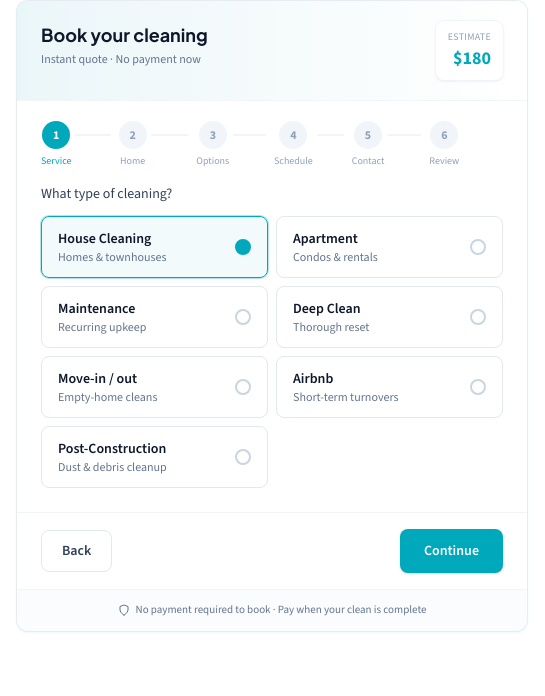
Test: BookingWidget demo booking flow › blocks continue on contact step when required fields are empty
Click the button with test id "booking-continue": (452, 551) [400,529,503,573]
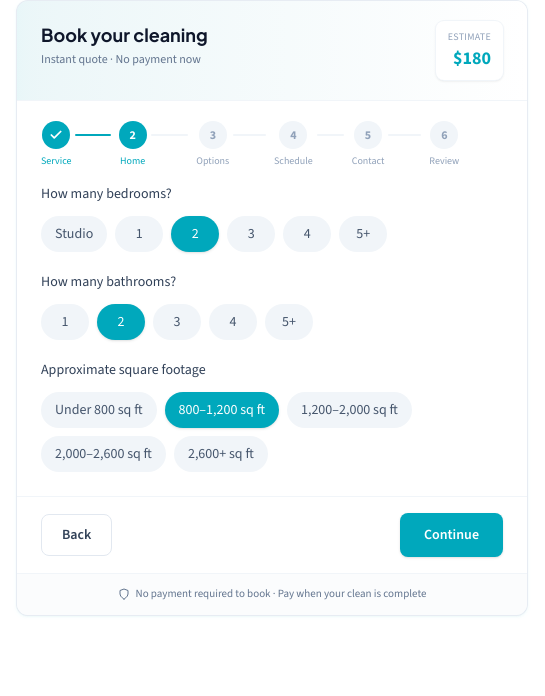
Click the button with test id "booking-continue": (452, 535) [400,513,503,557]
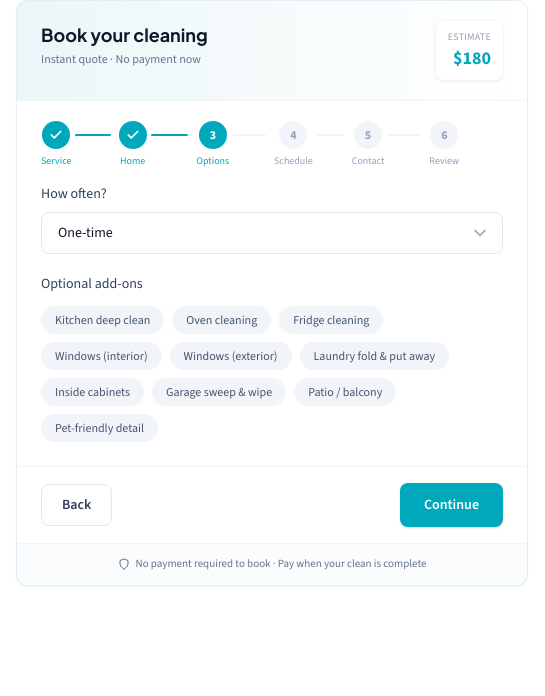
Click the button with test id "booking-continue": (452, 505) [400,483,503,527]
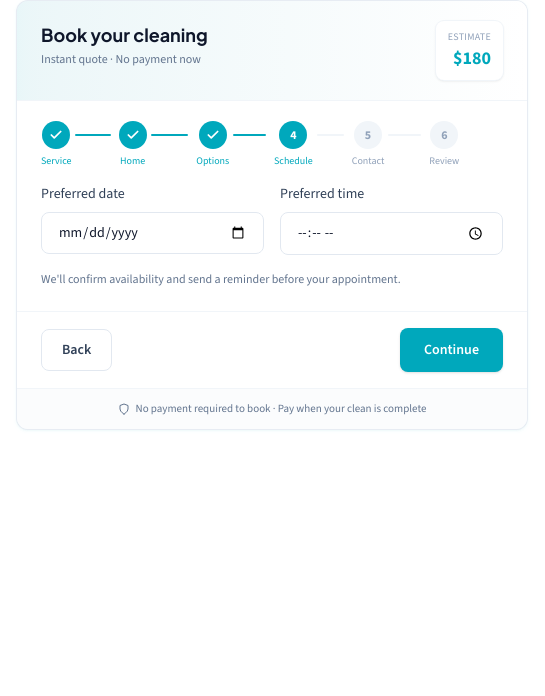
Click the button with test id "booking-continue": (452, 350) [400,328,503,372]
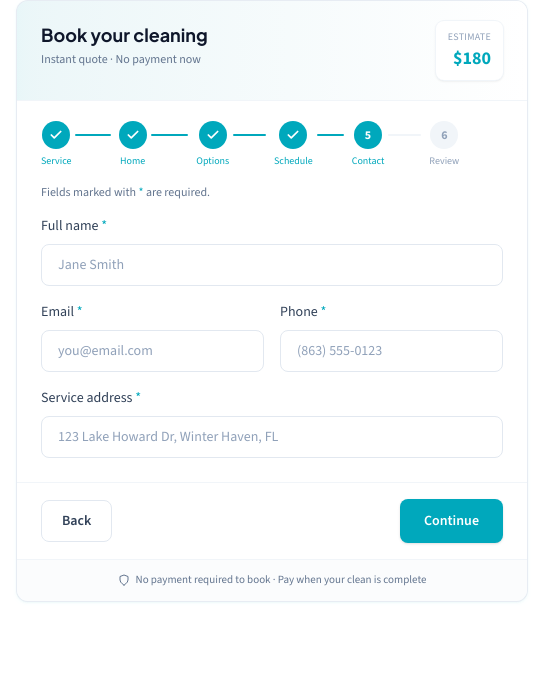
Click the button with test id "booking-continue": (452, 521) [400,499,503,543]
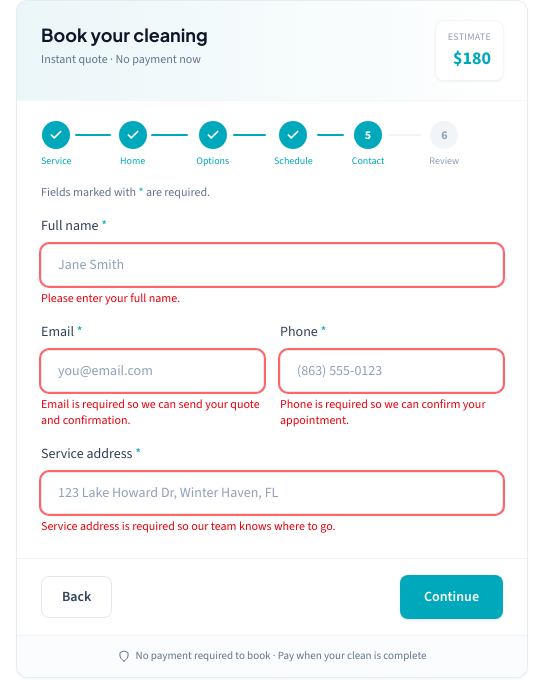
expect the text "Please enter your full name." is shown: met, box [41,290,180,306]
expect the text "Email is required" is shown: met, box [41,396,260,428]
expect the text "Phone is required so we can confirm your appointment." is shown: met, box [280,396,503,428]
